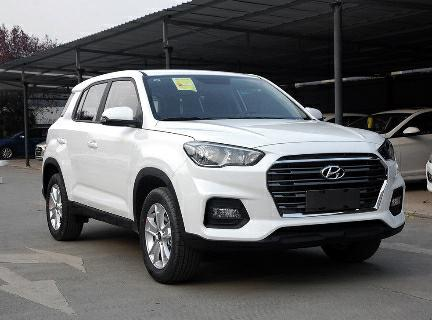现代-北京现代-ix35: (36, 63, 412, 291)
